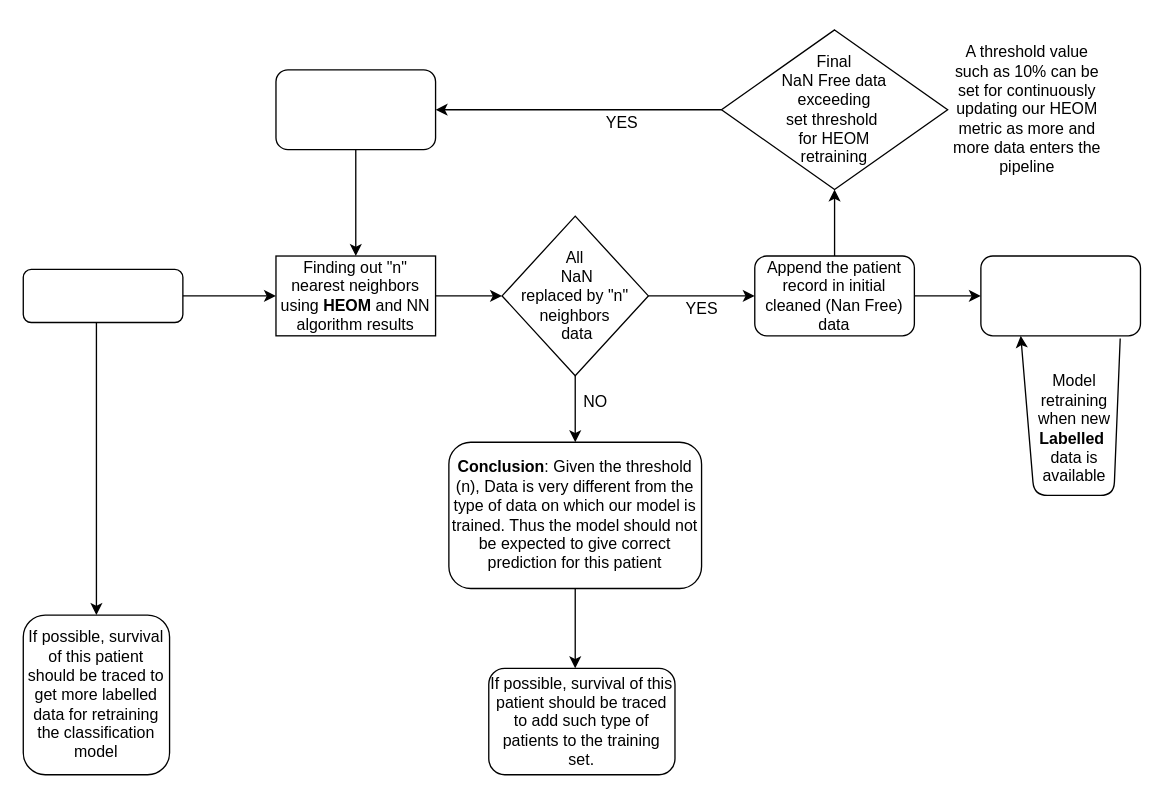
Some shapes in this 1164 by 798 pixel diagram are drawn without their labels. Here are the shapes that lost their labels. From the top down, the centre of each, then its label:
At (x=355, y=109): "Retrain the HEOM using new data and update the neigbors".
At (x=102, y=295): "Single Patient data".
At (x=1060, y=295): "Survival prediction using the Classification model".
